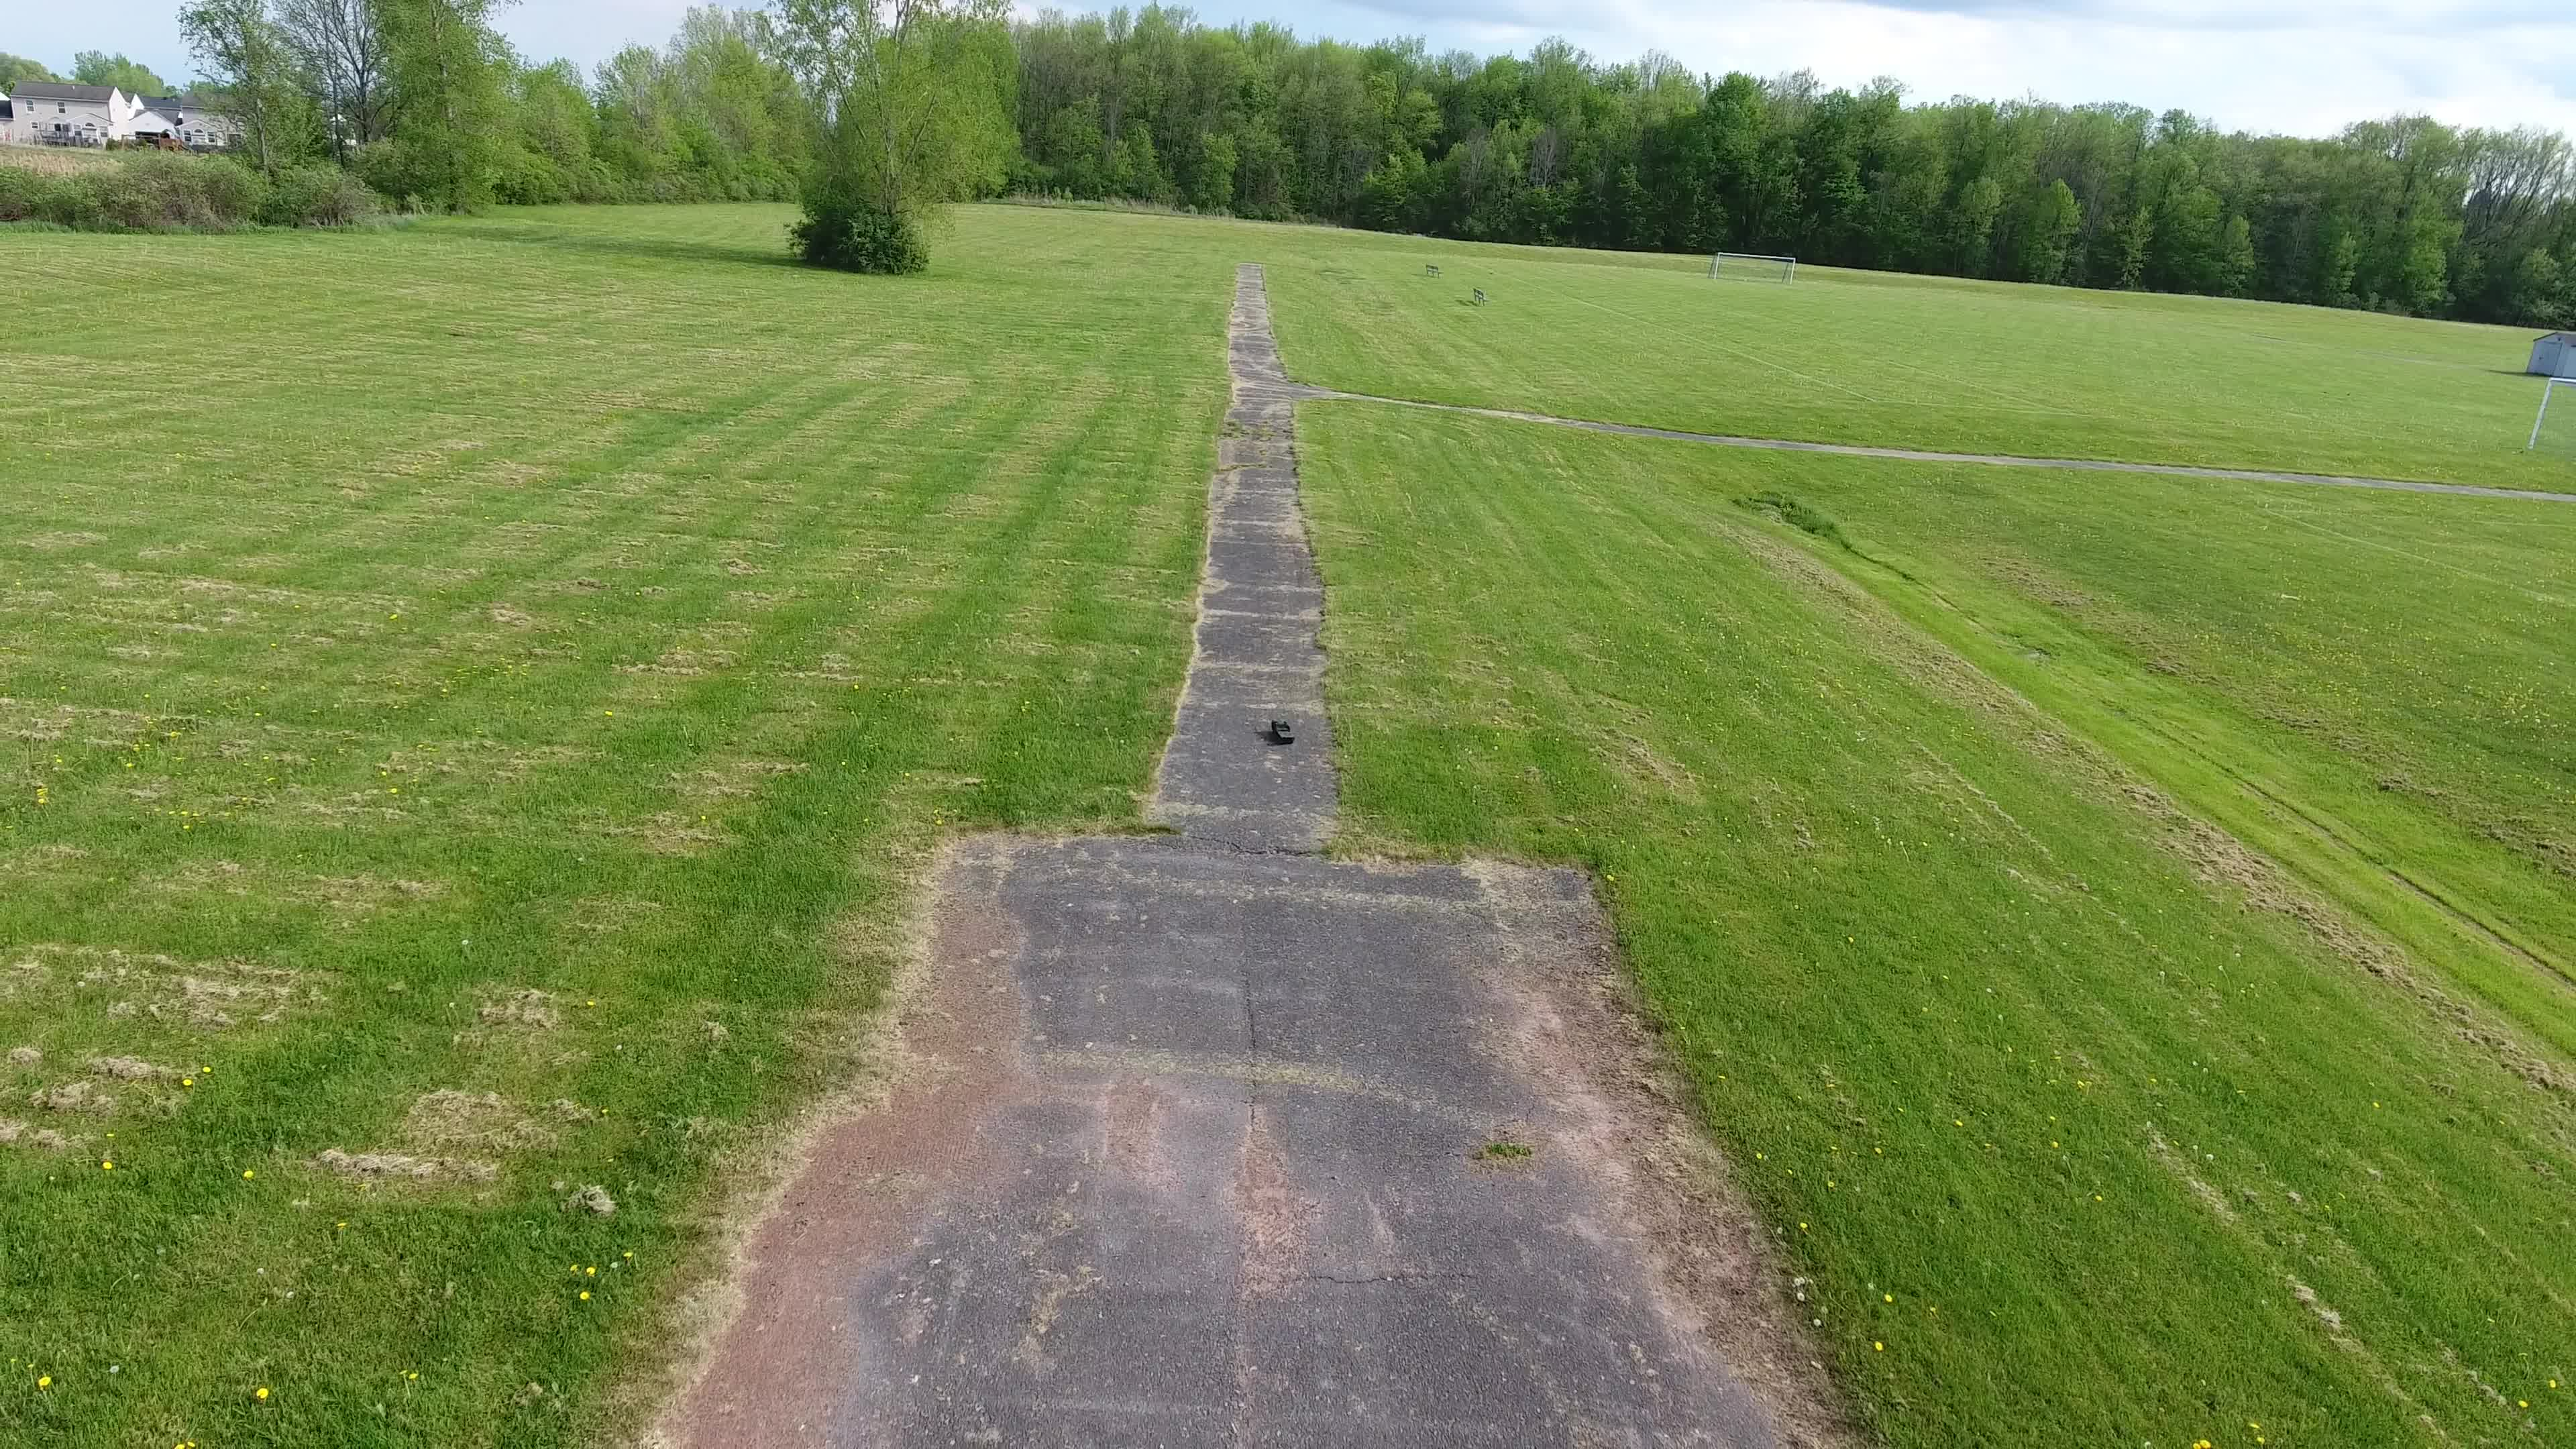transporter9_camo: (1270, 717, 1297, 745)
